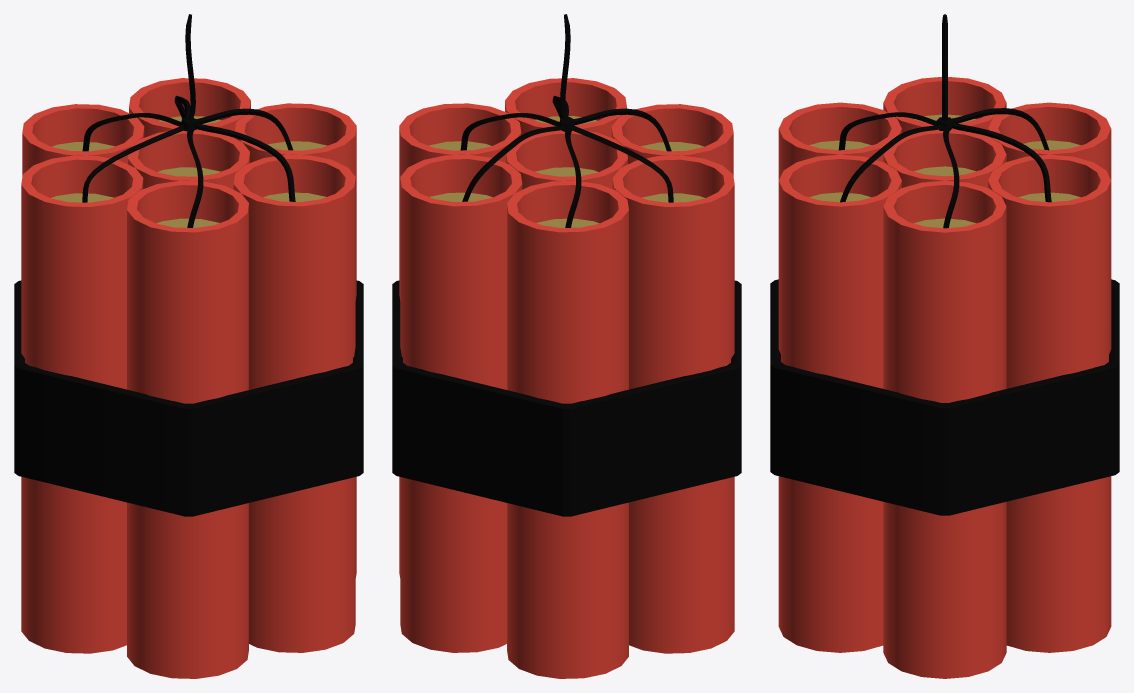
Rendered from dynamite_6x.fbx.
3 views of the same model, side by side, from view 1: azimuth 30°, elevation 25°; view 2: azimuth 150°, elevation 25°; view 3: azimuth 270°, elevation 25° (orthographic).
Parts seen in each view (by area): view 1: Icosphere; view 2: Icosphere; view 3: Icosphere.
Part boxes in pixels (x1,y1,x2,y2): Icosphere: (14, 14, 363, 678); Icosphere: (392, 14, 741, 678); Icosphere: (770, 14, 1119, 678).
Size of the model in its own units: 324 by 526 by 284.
